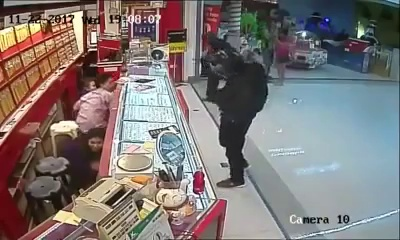helmet: (208, 48, 241, 76)
